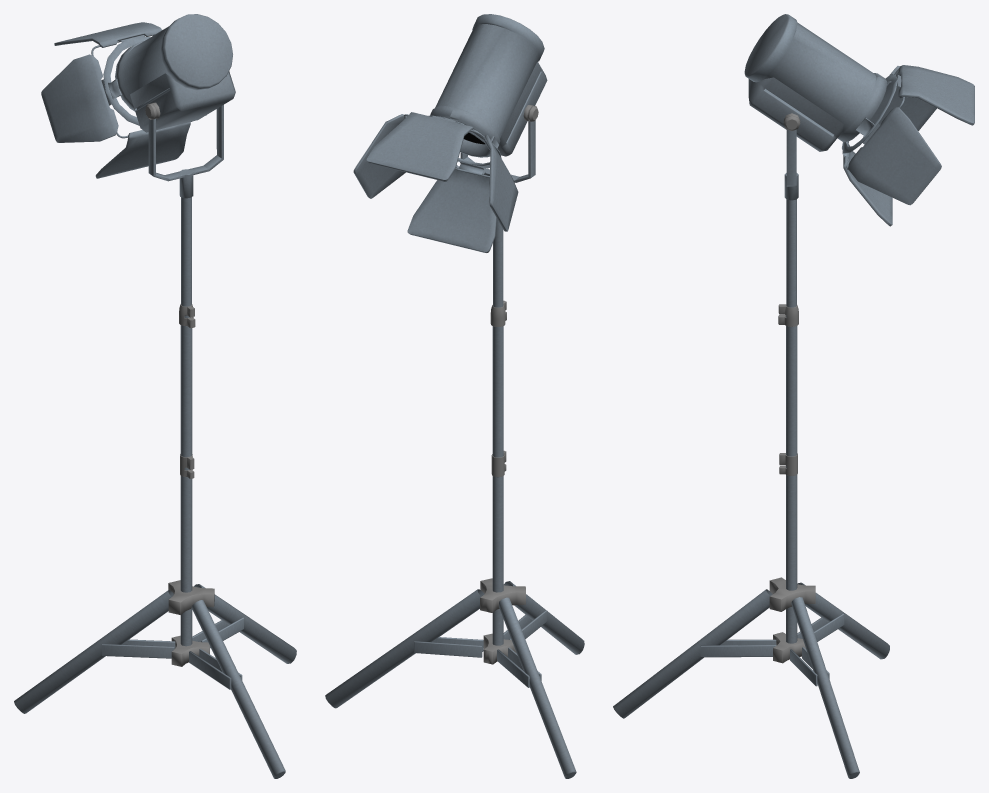
The model's file is Studio Spotlight 45.fbx.
The picture shows the model from 3 angles, left to right: view 1: azimuth 30°, elevation 25°; view 2: azimuth 150°, elevation 25°; view 3: azimuth 270°, elevation 25°; orthographic projection.
Parts seen in each view (by area): view 1: Studio Spotlight 45; view 2: Studio Spotlight 45; view 3: Studio Spotlight 45.
Part boxes in pixels (x1,y1,x2,y2): Studio Spotlight 45: (14,14,296,778); Studio Spotlight 45: (325,14,584,778); Studio Spotlight 45: (613,14,974,778).
Size of the model in its own units: 112 by 283 by 133.
